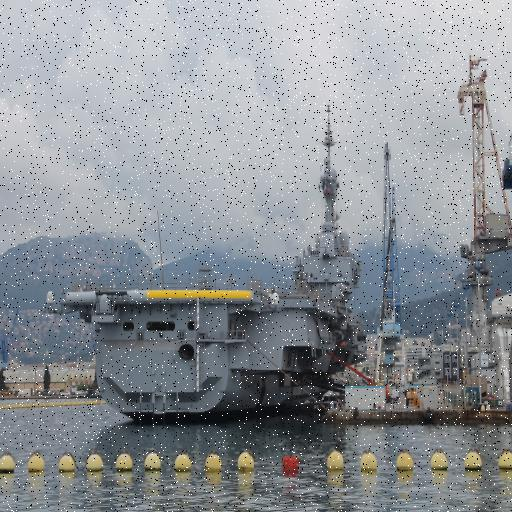Portanaves: (41, 89, 366, 427)
